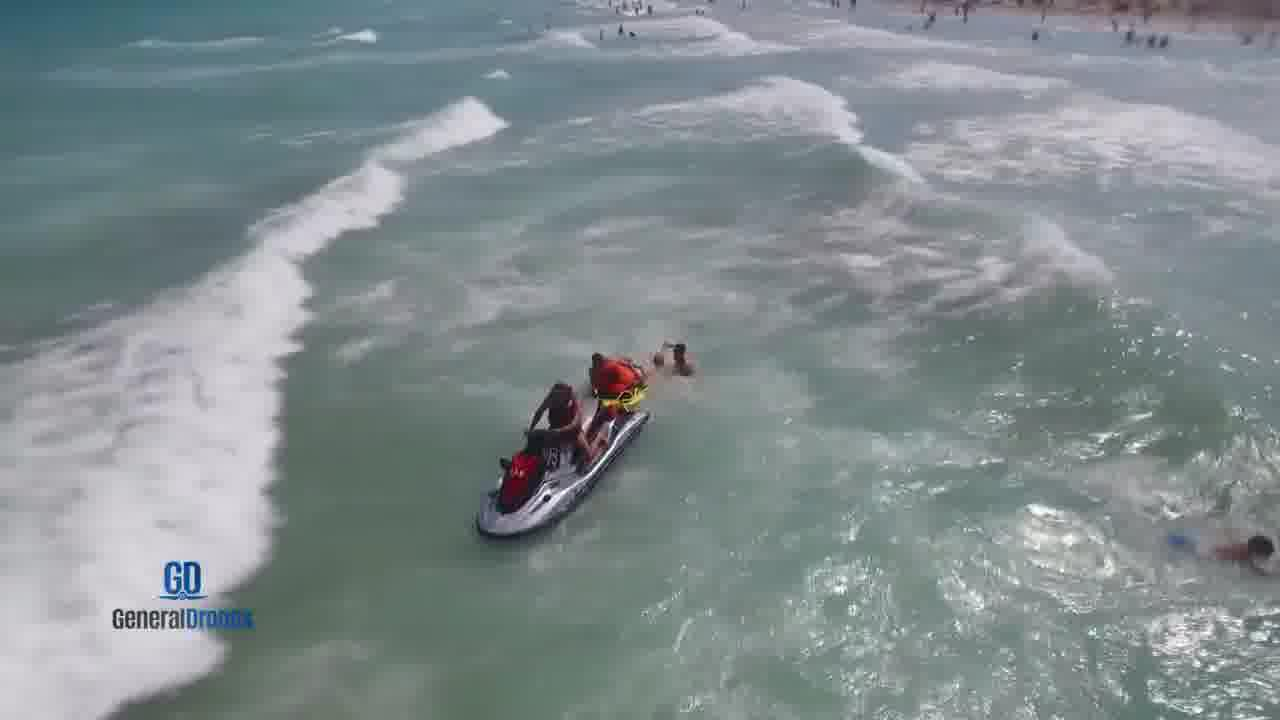swimmer: (1164, 510, 1280, 578), (667, 334, 715, 377)
